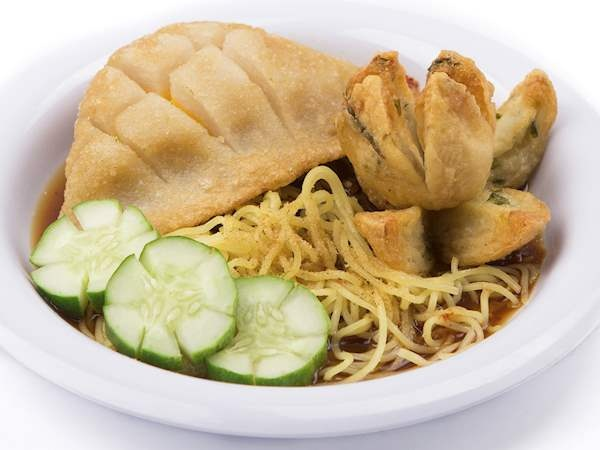pempek: (78, 8, 562, 373)
